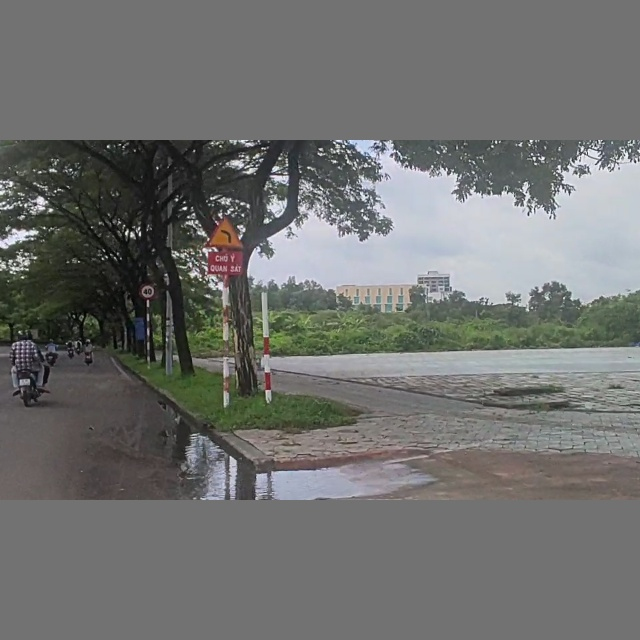P.127*40: (139, 282, 158, 297)
W.201a: (206, 215, 246, 251)
